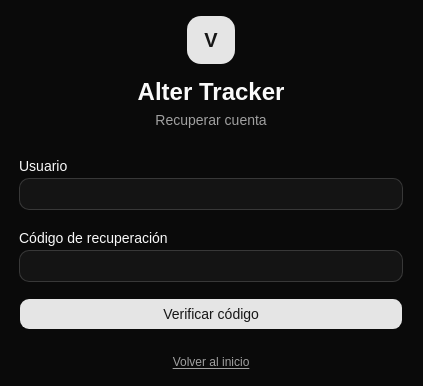
it: ForgotPasswordPage › shows 'Verificando…' while the request is in flight
Step 1. Type "alice" into the field labelled "Usuario" → (211, 194), box [19, 178, 403, 210]
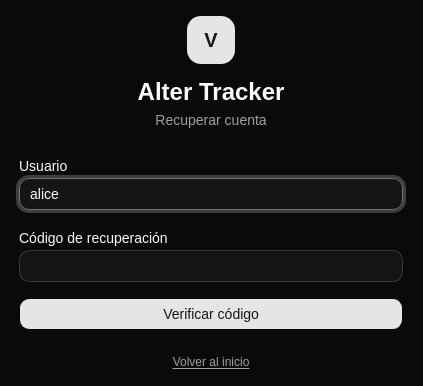
Step 2. Type "123456" into the field labelled "Código de recuperación" → (211, 266), box [19, 250, 403, 282]
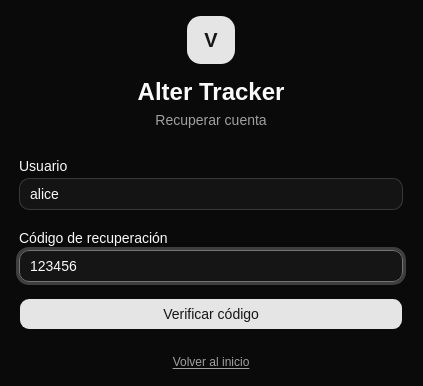
Step 3. Click the button "Verificar código" → click(211, 314), box [19, 298, 403, 330]
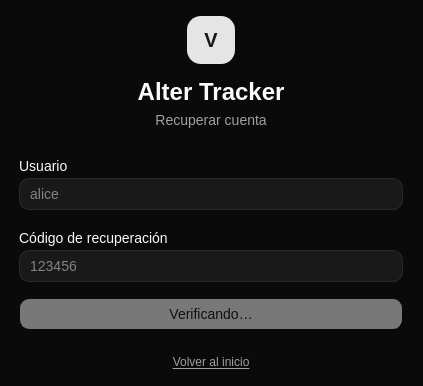
Check: the button "Verificando…" is shown, box [19, 298, 403, 330]
